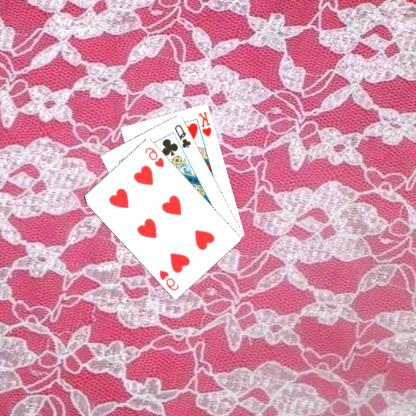6H: (144, 144, 168, 169), (158, 267, 182, 291)
KH: (197, 109, 215, 138)
QC: (174, 122, 194, 149)
